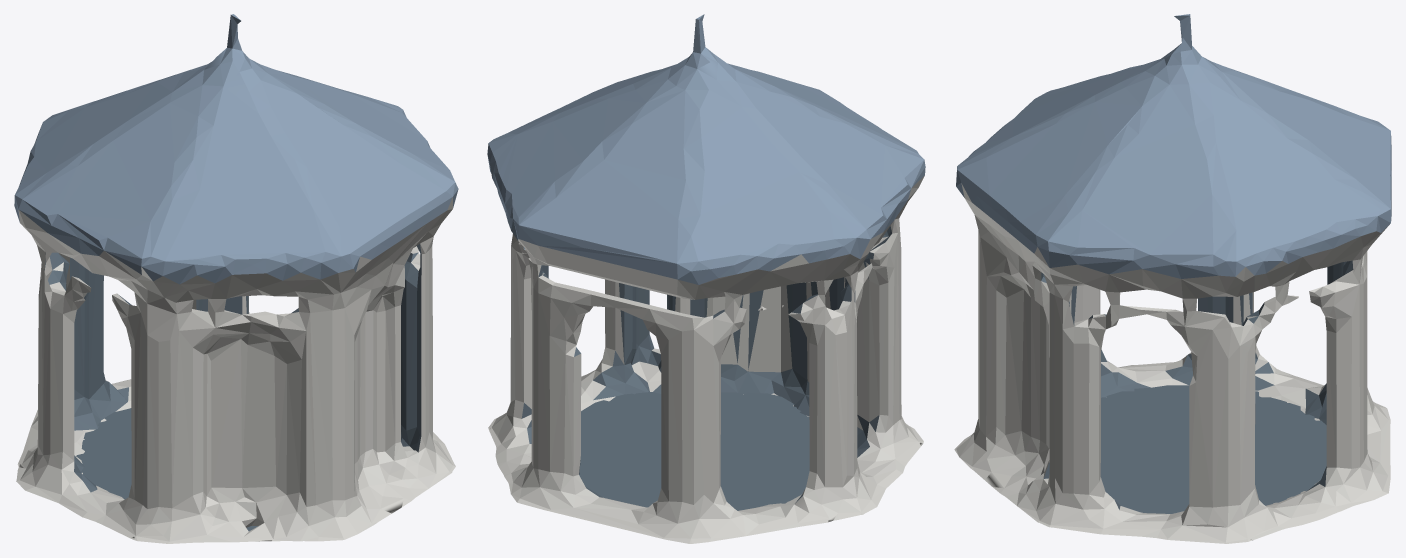
3 views of the same model, side by side, from view 1: azimuth 30°, elevation 25°; view 2: azimuth 150°, elevation 25°; view 3: azimuth 270°, elevation 25° (orthographic).
Visible parts, largest first — view 1: geometry_0; view 2: geometry_0; view 3: geometry_0.
Part boxes in pixels (bbox=[...]): geometry_0: bbox=[14, 14, 458, 543]; geometry_0: bbox=[487, 14, 925, 543]; geometry_0: bbox=[954, 14, 1391, 543].
Bounding box in the file's own units: 0.8635 × 0.9407 × 0.8517.
